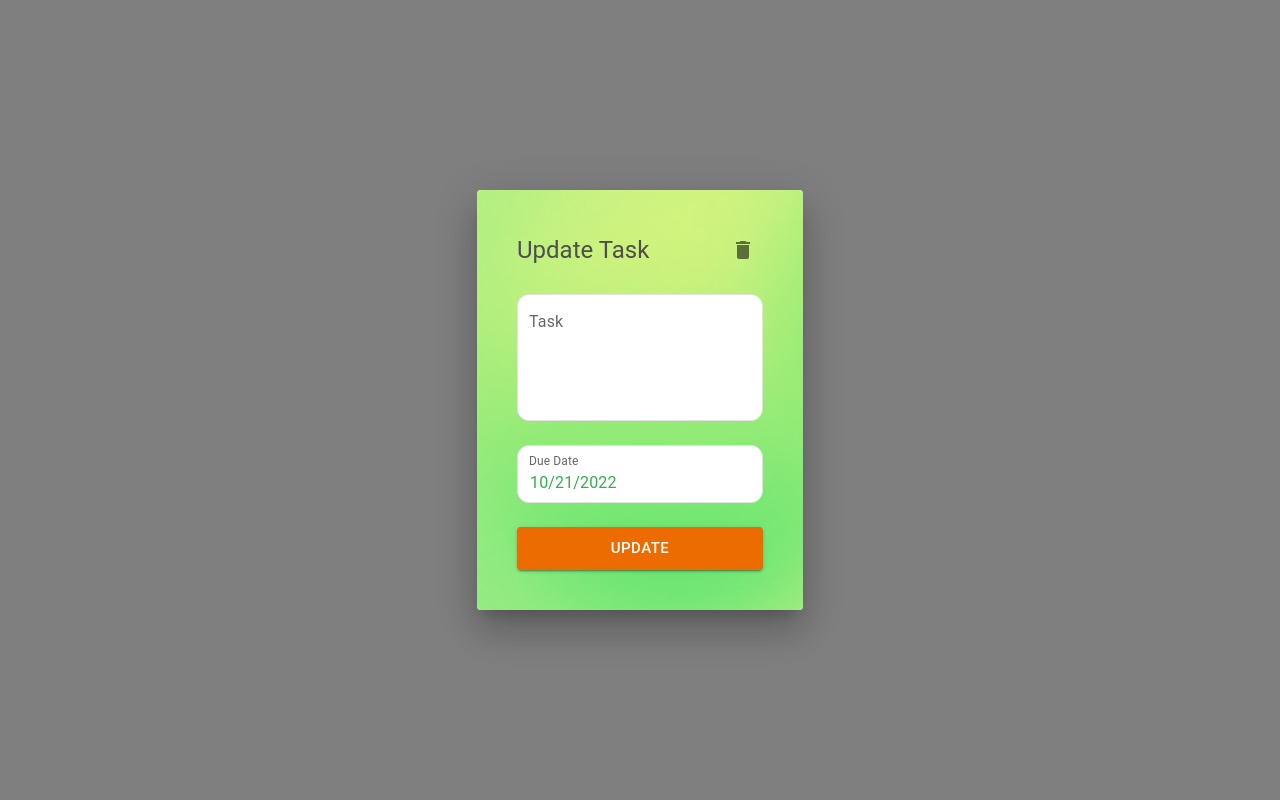
Test: update task form › updating tasks with title
This screenshot has width=1280, height=800.
Type "Title" into the text box with test id "baseTextAreaField" at (640, 366), box x1=530 y1=320 x2=750 y2=412
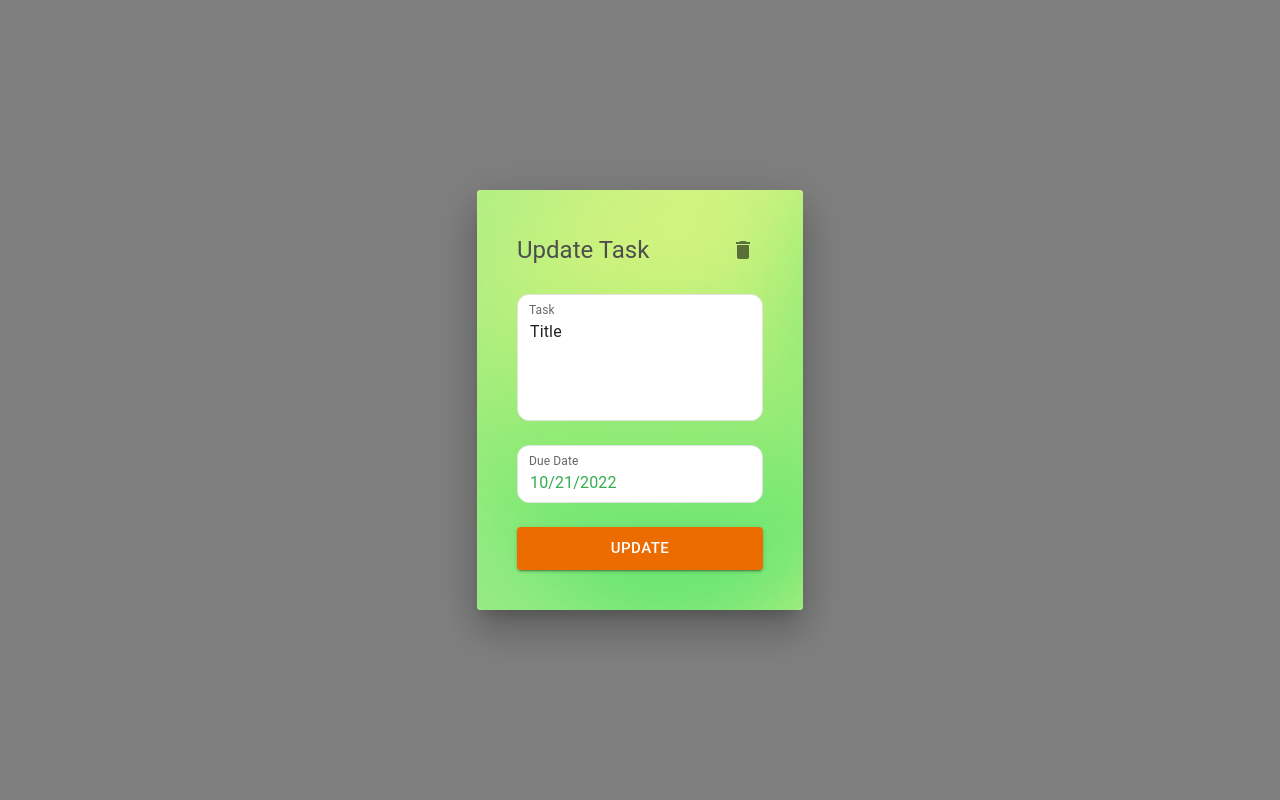
Click the button with test id "updateTask" at (640, 549), box x1=517 y1=527 x2=763 y2=570
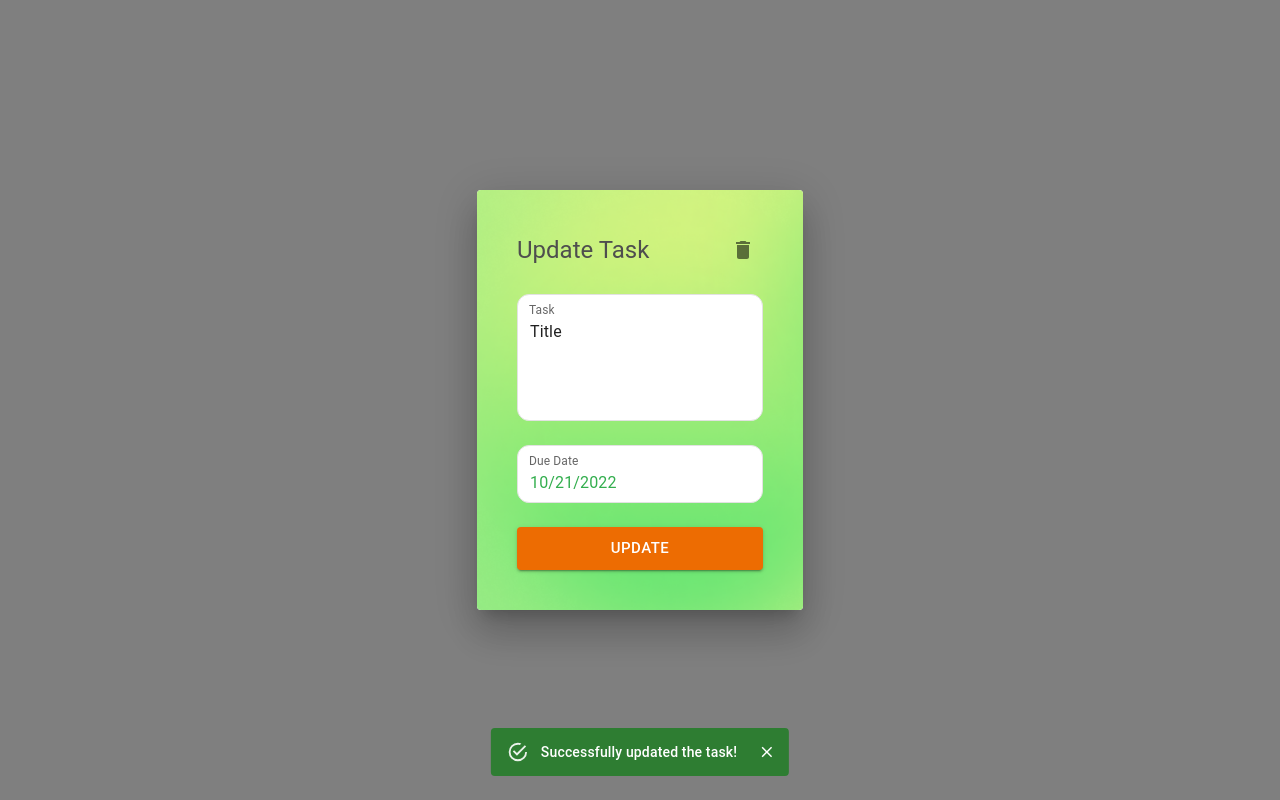
Check: the text "Successfully updated the task!" is shown, box x1=541 y1=744 x2=737 y2=760
